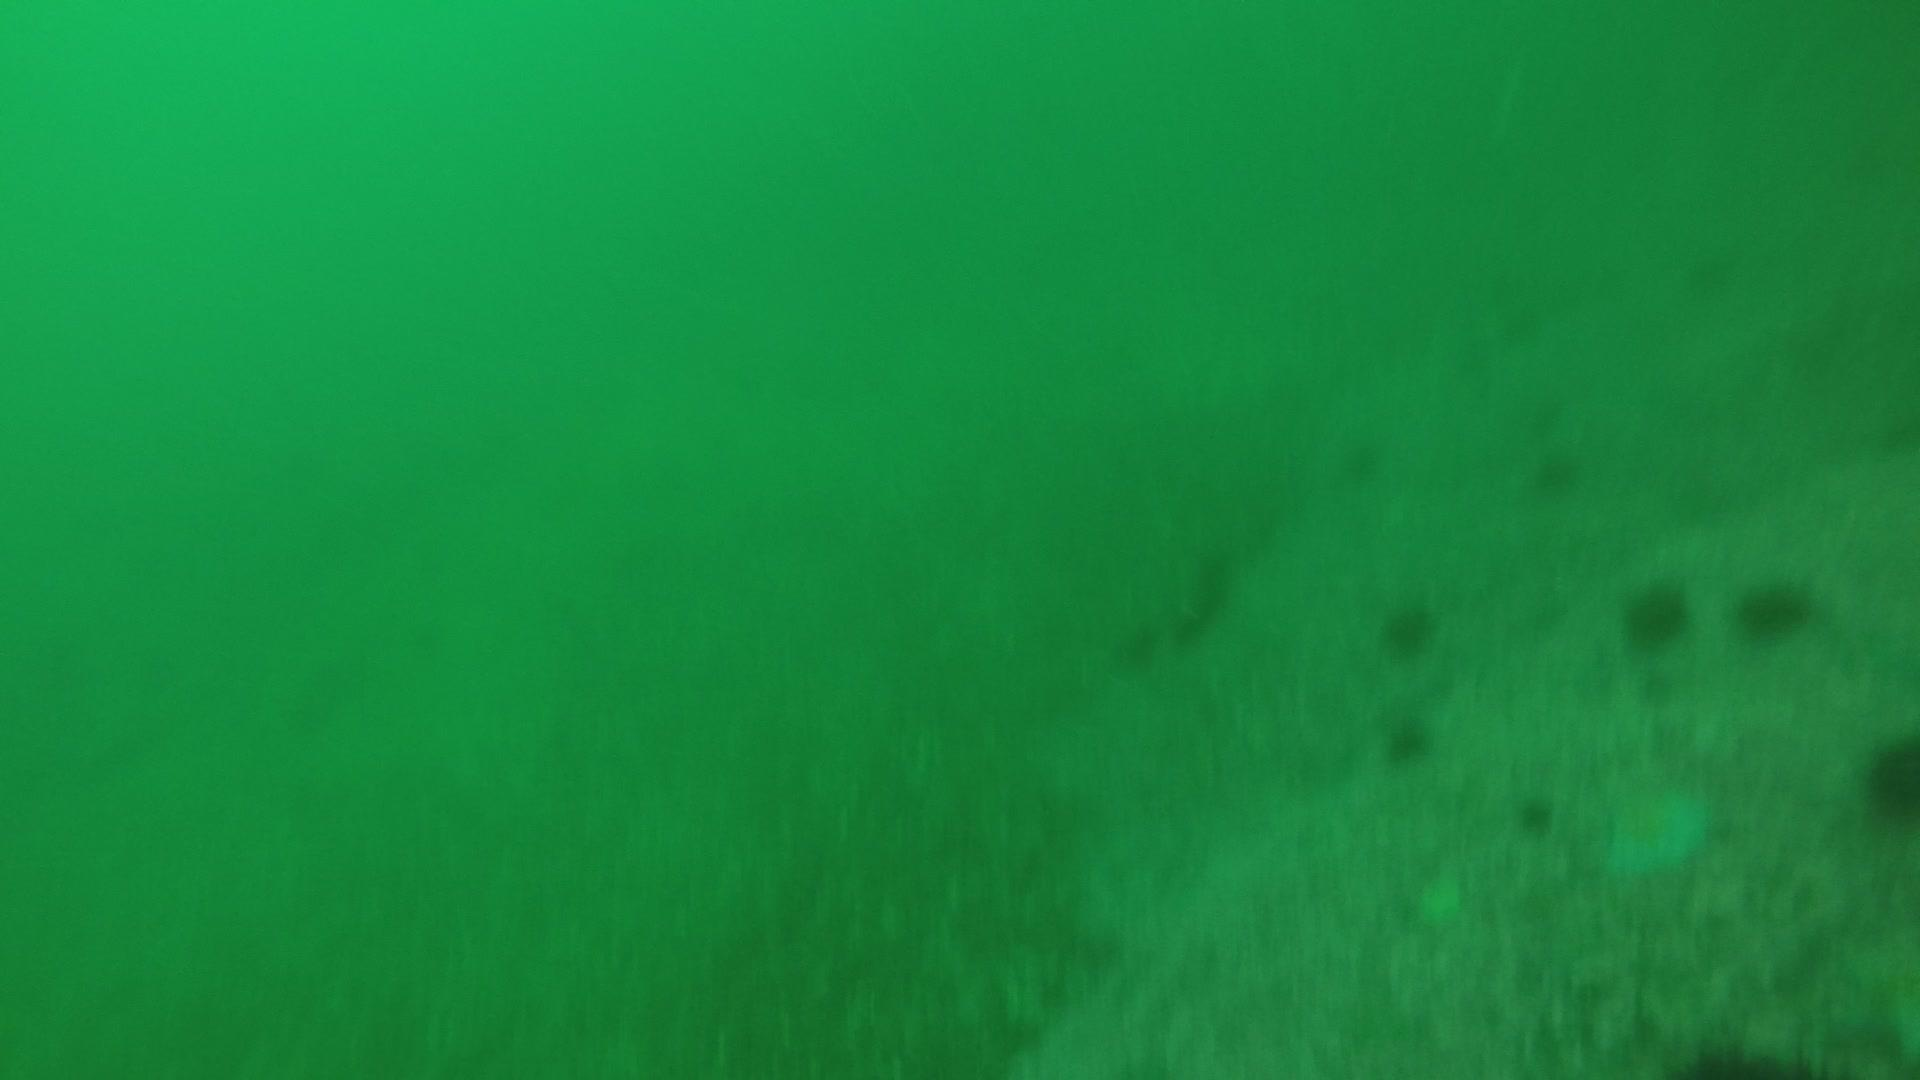echinus: (1857, 727, 1920, 827), (1618, 574, 1693, 651), (1733, 571, 1816, 641), (1375, 593, 1441, 658), (1524, 442, 1586, 498), (1379, 712, 1437, 767), (1335, 430, 1389, 487), (1110, 618, 1164, 674), (1513, 789, 1559, 837), (1174, 607, 1213, 644), (1197, 541, 1236, 578), (1189, 578, 1228, 615)
